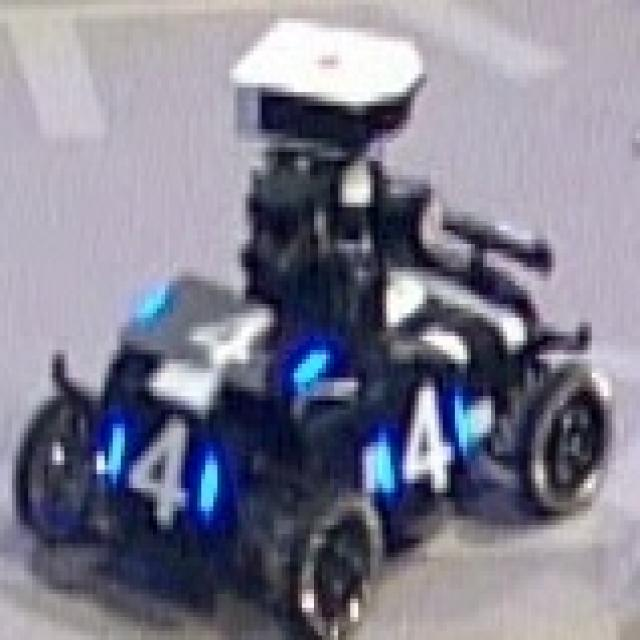B4: (133, 272, 334, 396), (92, 396, 222, 525), (368, 368, 481, 506)
